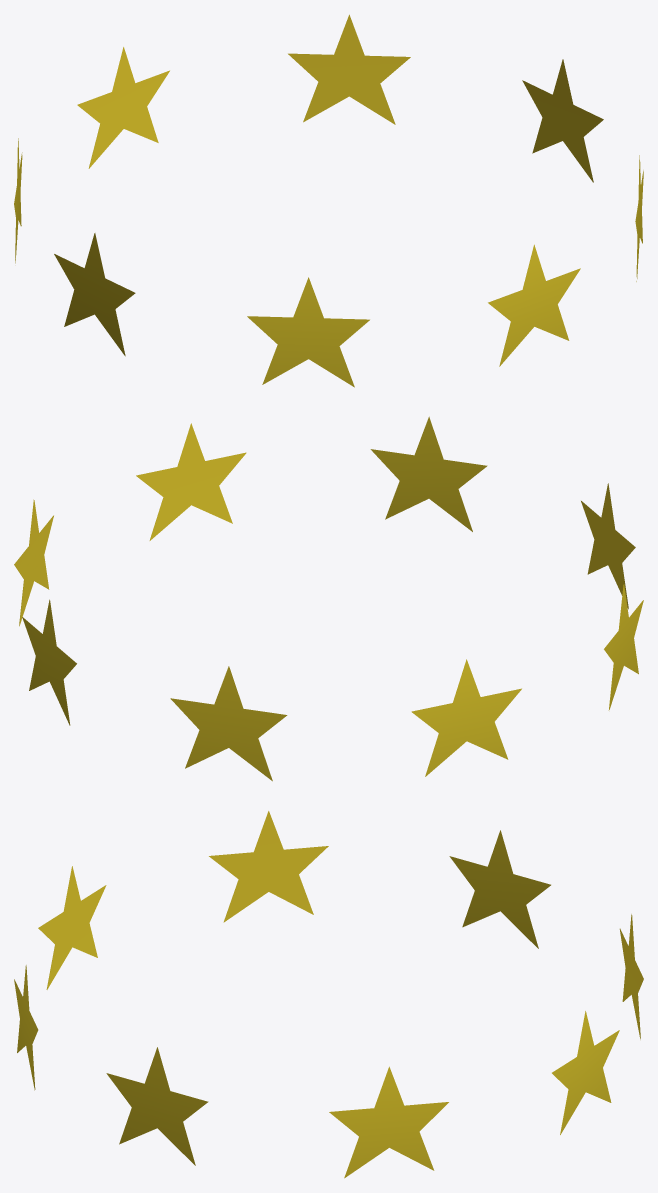
The model's file is stars_damage.fbx.
The picture shows the model from 3 angles, top to bottom: view 1: azimuth 30°, elevation 25°; view 2: azimuth 150°, elevation 25°; view 3: azimuth 270°, elevation 25°; orthographic projection.
Visible parts, largest first — view 1: Cylinder.006; view 2: Cylinder.006; view 3: Cylinder.006.
Part boxes in pixels (x1,y1,x2,y2): Cylinder.006: [14, 14, 643, 387]; Cylinder.006: [14, 416, 643, 781]; Cylinder.006: [14, 811, 643, 1178].
Bounding box in the file's own units: 400 × 76 × 400.
